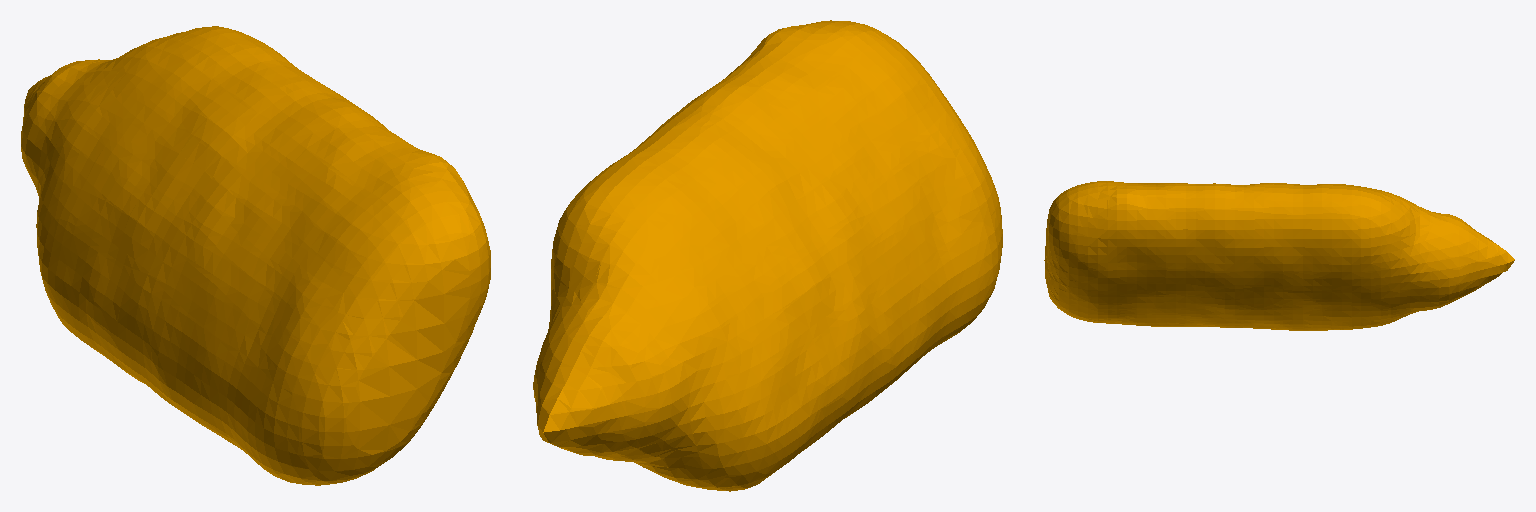
URDF robot description (elmers_glue):
<?xml version="0.0" ?>
<robot name="elmers_glue">
    <link name="elmers_glue_link">
        <contact>
            <lateral_friction value="1"/>
        </contact>
        <inertial>
            <origin rpy="0 0 0" xyz="0 0 0"/>
            <mass value=".2"/>
            <inertia ixx="0" ixy="0" ixz="0" iyy="0" iyz="0" izz="0"/>
        </inertial>
        <visual>
            <origin rpy="0 0 0" xyz="0 0 0"/>
            <geometry>
                <mesh filename="elmers_glue.obj" scale="1 1 1"/>
            </geometry>
        </visual>
        <collision>
            <origin rpy="0 0 0" xyz="0 0 0"/>
            <geometry>
                <mesh filename="elmers_glue.obj" scale="1 1 1"/>
            </geometry>
        </collision>
    </link>
</robot>

--- Render facts (derived) ---
The picture shows the robot from 3 angles, left to right: view 1: azimuth 30°, elevation 25°; view 2: azimuth 150°, elevation 25°; view 3: azimuth 270°, elevation 25°; orthographic projection.
Robot: elmers_glue — 1 links, 0 joints (none); root link elmers_glue_link; default pose: every joint at zero.
Visible links, largest first — view 1: elmers_glue_link; view 2: elmers_glue_link; view 3: elmers_glue_link.
Boxes of the visible links, bbox=[...] form: elmers_glue_link: bbox=[21, 26, 490, 485]; elmers_glue_link: bbox=[533, 20, 1002, 491]; elmers_glue_link: bbox=[1044, 181, 1514, 330].
Bounding box of the posed robot: 0.043 × 0.1297 × 0.053 m (x, y, z).
Meshes: 1 distinct files referenced, 1 mesh visuals loaded (1 OBJ).